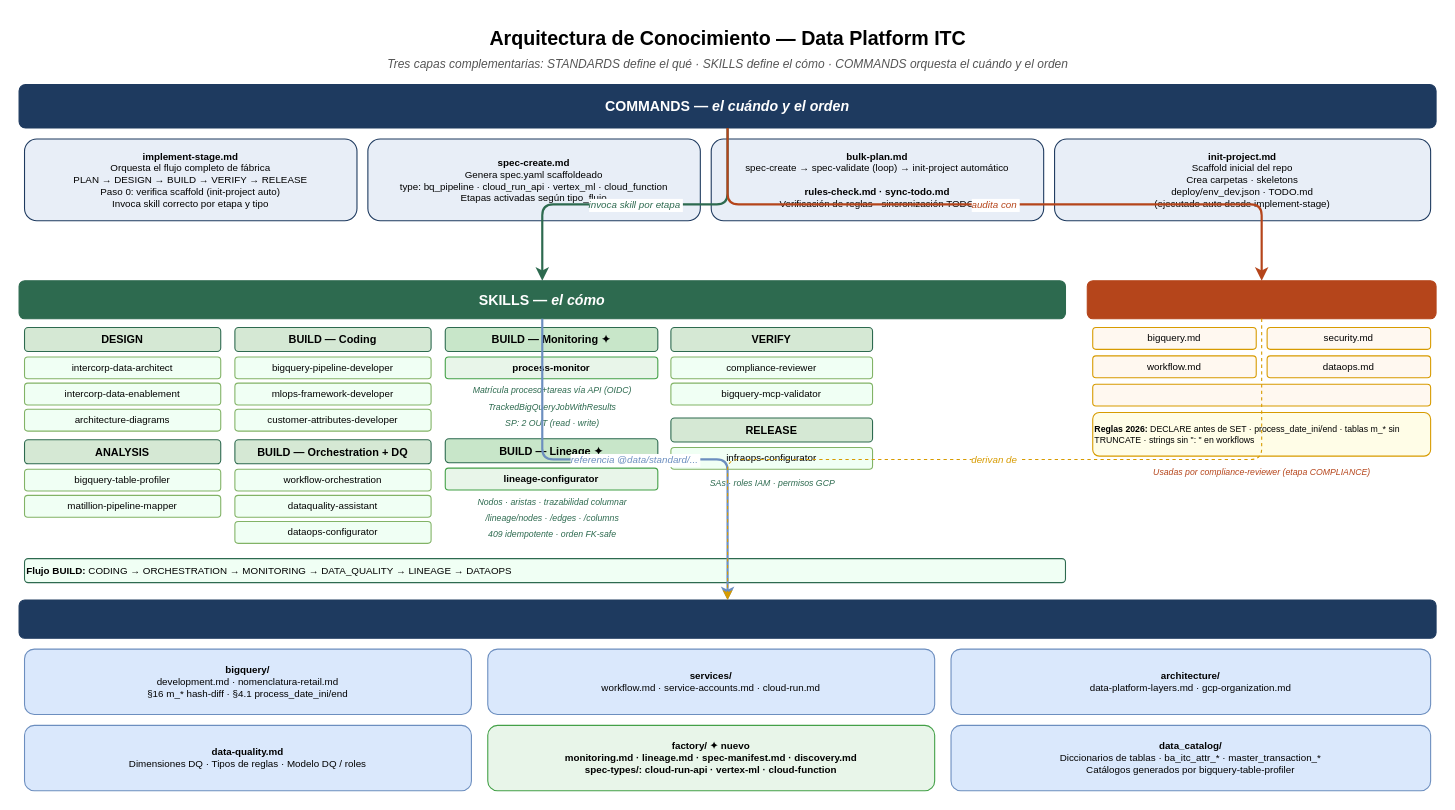
Image size: 1455x810. Some labels were removed from this diagram. Here are the shapes that lost their labels. From the top down, the centre of each, then its label:
At point 1261,299: "RULES — restricciones estáticas".
At point 1261,394: "general.md".
At point 727,618: "STANDARDS — el qué".
